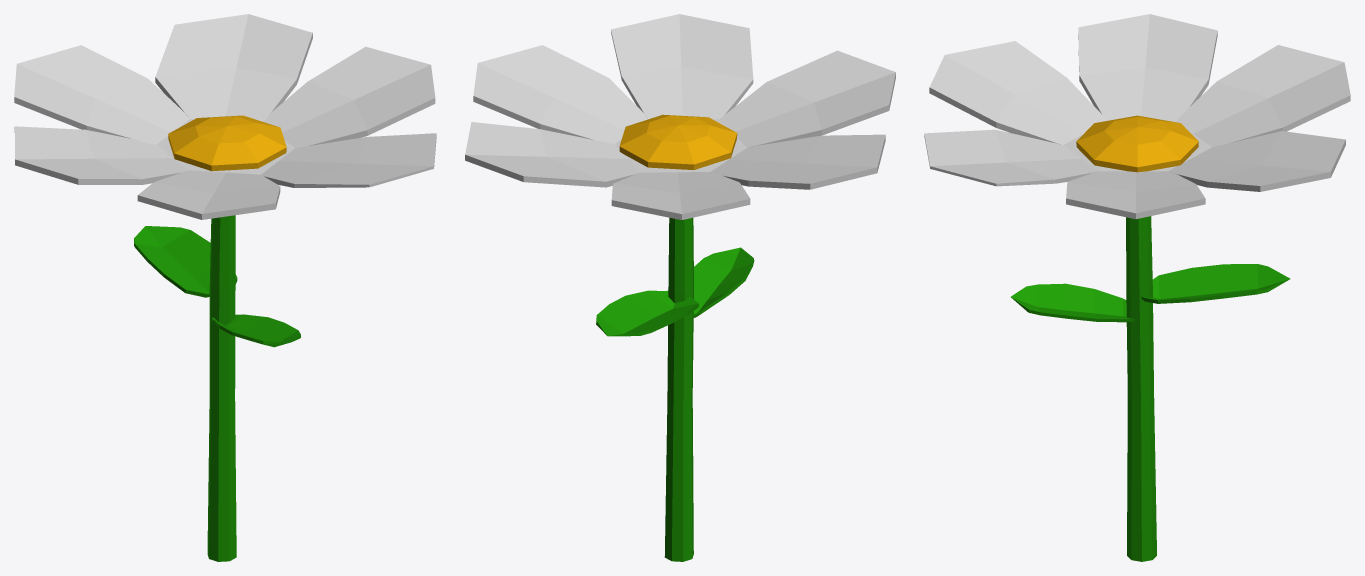
Rendered from flower-1.glb.
The picture shows the model from 3 angles, left to right: view 1: azimuth 30°, elevation 25°; view 2: azimuth 150°, elevation 25°; view 3: azimuth 270°, elevation 25°; orthographic projection.
Parts seen in each view (by area): view 1: Flower 1; view 2: Flower 1; view 3: Flower 1.
Boxes of the visible parts, x1,y1,x2,y2 form: Flower 1: (14, 14, 436, 561); Flower 1: (465, 14, 895, 561); Flower 1: (924, 14, 1350, 561).
Size of the model in its own units: 1.36 by 1.41 by 1.23.
